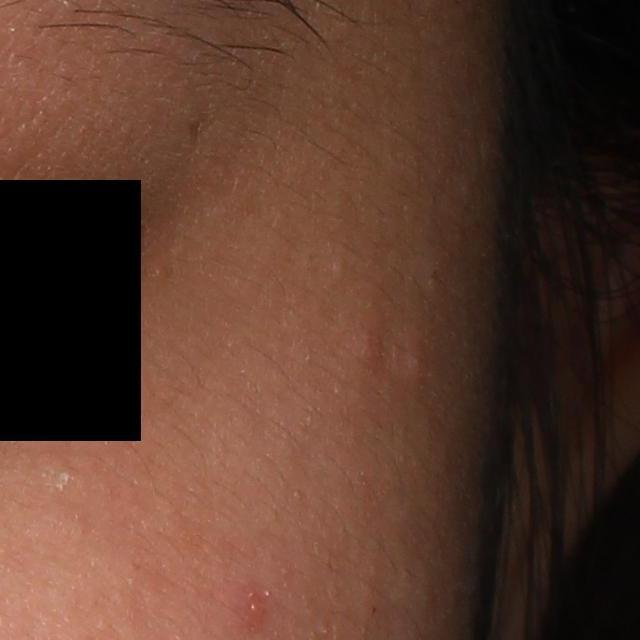papule: (352, 327, 388, 369)
